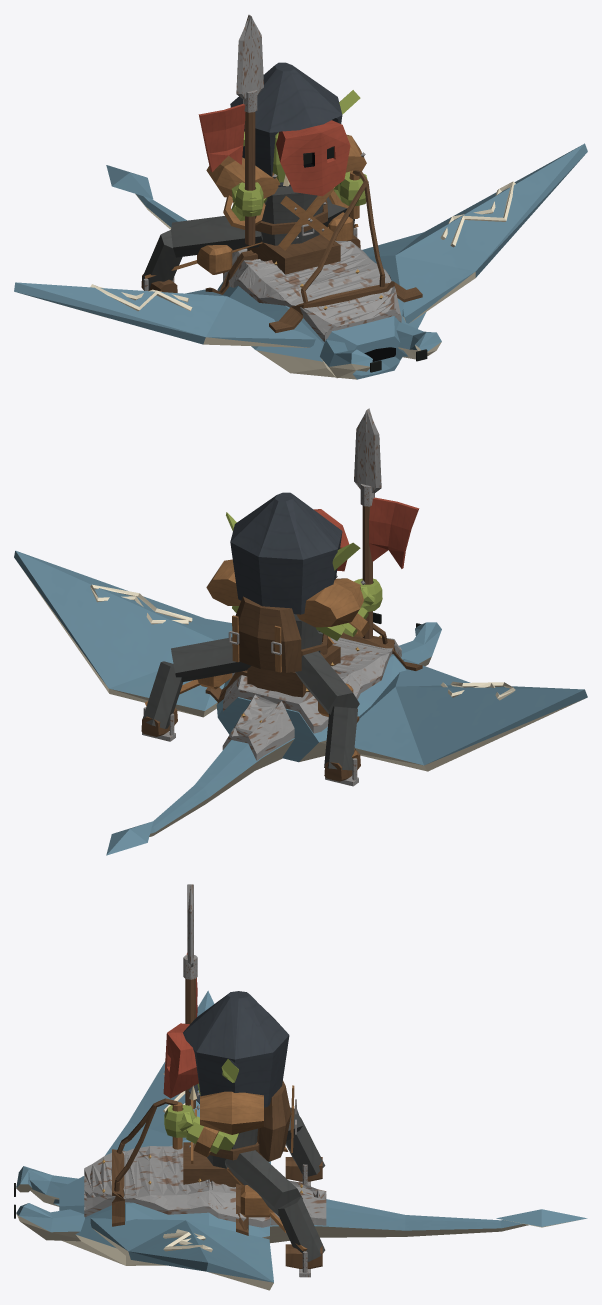
The model's file is host_39.glb.
The picture shows the model from 3 angles, top to bottom: view 1: azimuth 30°, elevation 25°; view 2: azimuth 150°, elevation 25°; view 3: azimuth 270°, elevation 25°; orthographic projection. The views are drawn at different scales.
Parts seen in each view (by area): view 1: Manta ONE connected native torso, TWO fins, TWO lobes and co, Manta complete source gray dorsal carrier with raised pointe, Rider one connected body, skull, ears, two arms, compact pal, Rider true deep peaked open source cowl, Source rider actual angular volumetric red mask, Source RIGHT spear real ragged red pennant, Manta source seated saddle, Rider RIGHT source weapon real volumetric blade, Manta fitted outer transverse girth, Rider real shaped source torso clothing shell, Rider actual convex three-plane source pauldron 1, Rider RIGHT source weapon actual wood handle (+9 smaller); view 2: Manta ONE connected native torso, TWO fins, TWO lobes and co, Rider one connected body, skull, ears, two arms, compact pal, Rider true deep peaked open source cowl, Manta complete source gray dorsal carrier with raised pointe, Rider actual source broad rear leather pack, Source RIGHT spear real ragged red pennant, Rider actual convex three-plane source pauldron 1, Rider RIGHT source weapon real volumetric blade, Manta source seated saddle, Rider actual convex three-plane source pauldron -1, Rider RIGHT source weapon actual wood handle, Manta source true white upper angular rune -1 (+1 smaller); view 3: Manta ONE connected native torso, TWO fins, TWO lobes and co, Rider true deep peaked open source cowl, Manta complete source gray dorsal carrier with raised pointe, Rider one connected body, skull, ears, two arms, compact pal, Rider actual convex three-plane source pauldron -1, Source rider actual angular volumetric red mask, Rider actual source broad rear leather pack, Manta source seated saddle, Manta fitted outer transverse girth, Rider compact source saddle pouch -1, Rider RIGHT source weapon actual wood handle, Rider RIGHT source weapon real volumetric blade (+3 smaller).
Part boxes in pixels (<box>): Manta ONE connected native torso, TWO fins, TWO lobes and co: <box>14,143,587,379</box>; Manta complete source gray dorsal carrier with raised pointe: <box>223,240,401,341</box>; Rider one connected body, skull, ears, two arms, compact pal: <box>141,90,367,292</box>; Rider true deep peaked open source cowl: <box>230,62,342,186</box>; Source rider actual angular volumetric red mask: <box>276,120,350,196</box>; Source RIGHT spear real ragged red pennant: <box>198,103,245,172</box>; Manta source seated saddle: <box>247,234,340,274</box>; Rider RIGHT source weapon real volumetric blade: <box>236,14,263,99</box>; Manta fitted outer transverse girth: <box>269,281,422,332</box>; Rider real shaped source torso clothing shell: <box>255,186,323,245</box>; Rider actual convex three-plane source pauldron 1: <box>206,155,280,198</box>; Rider RIGHT source weapon actual wood handle: <box>245,112,255,245</box>; Manta ONE connected native torso, TWO fins, TWO lobes and co: <box>14,550,587,855</box>; Rider one connected body, skull, ears, two arms, compact pal: <box>141,512,382,781</box>; Rider true deep peaked open source cowl: <box>230,492,342,614</box>; Manta complete source gray dorsal carrier with raised pointe: <box>222,636,401,760</box>; Rider actual source broad rear leather pack: <box>235,596,301,672</box>; Source RIGHT spear real ragged red pennant: <box>369,497,419,568</box>; Rider actual convex three-plane source pauldron 1: <box>296,578,363,627</box>; Rider RIGHT source weapon real volumetric blade: <box>354,408,381,493</box>; Manta source seated saddle: <box>247,642,340,697</box>; Rider actual convex three-plane source pauldron -1: <box>206,559,240,605</box>; Rider RIGHT source weapon actual wood handle: <box>362,506,372,638</box>; Manta source true white upper angular rune -1: <box>90,584,192,624</box>; Manta ONE connected native torso, TWO fins, TWO lobes and co: <box>16,990,587,1290</box>; Rider true deep peaked open source cowl: <box>183,991,289,1107</box>; Manta complete source gray dorsal carrier with raised pointe: <box>84,1146,326,1227</box>; Rider one connected body, skull, ears, two arms, compact pal: <box>164,1059,325,1268</box>; Rider actual convex three-plane source pauldron -1: <box>200,1091,263,1134</box>; Source rider actual angular volumetric red mask: <box>163,1023,198,1098</box>; Rider actual source broad rear leather pack: <box>256,1081,291,1161</box>; Manta source seated saddle: <box>183,1142,243,1187</box>; Manta fitted outer transverse girth: <box>112,1149,124,1226</box>; Rider compact source saddle pouch -1: <box>240,1185,273,1217</box>; Rider RIGHT source weapon actual wood handle: <box>185,979,195,1108</box>; Rider RIGHT source weapon real volumetric blade: <box>187,884,193,968</box>.
Size of the model in its own units: 7.1 by 3.96 by 6.27.
37 materials, 33 textured.
